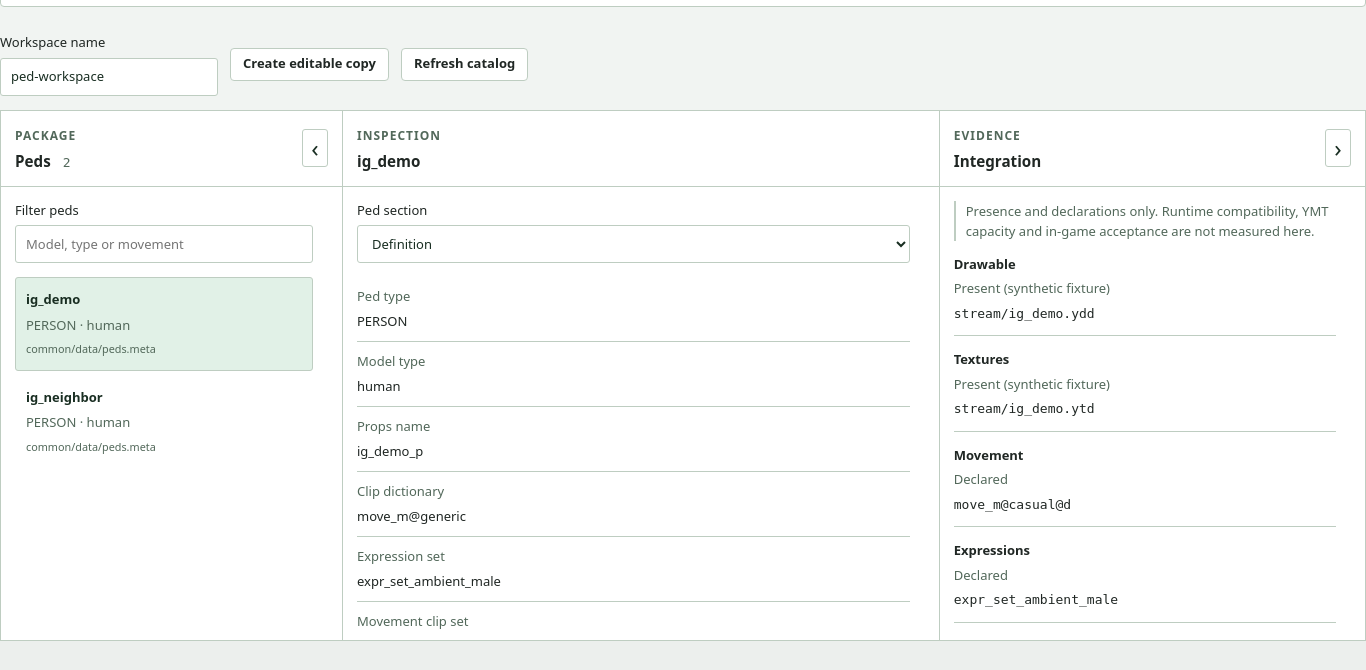
requires an explicit preview edition, reads exact model and texture sequentially, and reports missing images honestly
Expected: the heading "ig_demo" is shown, x1=357 y1=151 x2=420 y2=171
Select "Preview" in the dropdown labelled "Ped section" at (633, 244), box x1=357 y1=225 x2=910 y2=263
(page scrolled)
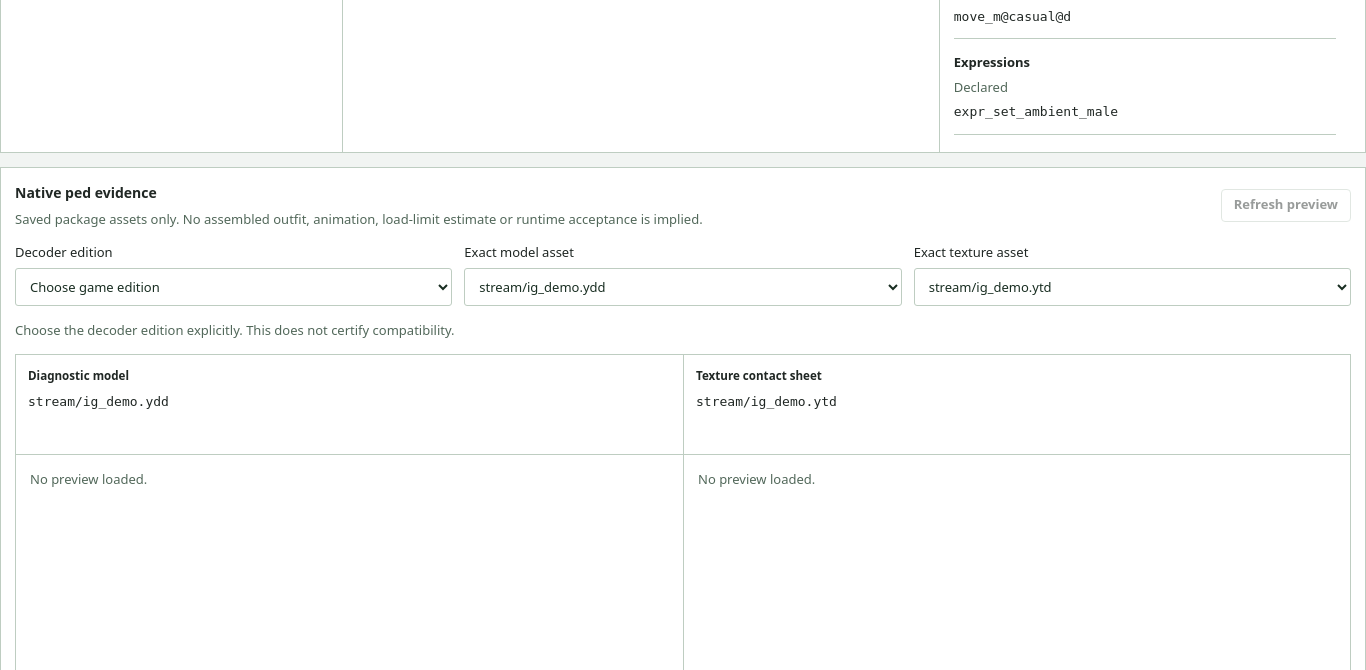
Select "Enhanced" in the dropdown labelled "Decoder edition" at (234, 287), box x1=15 y1=268 x2=452 y2=306
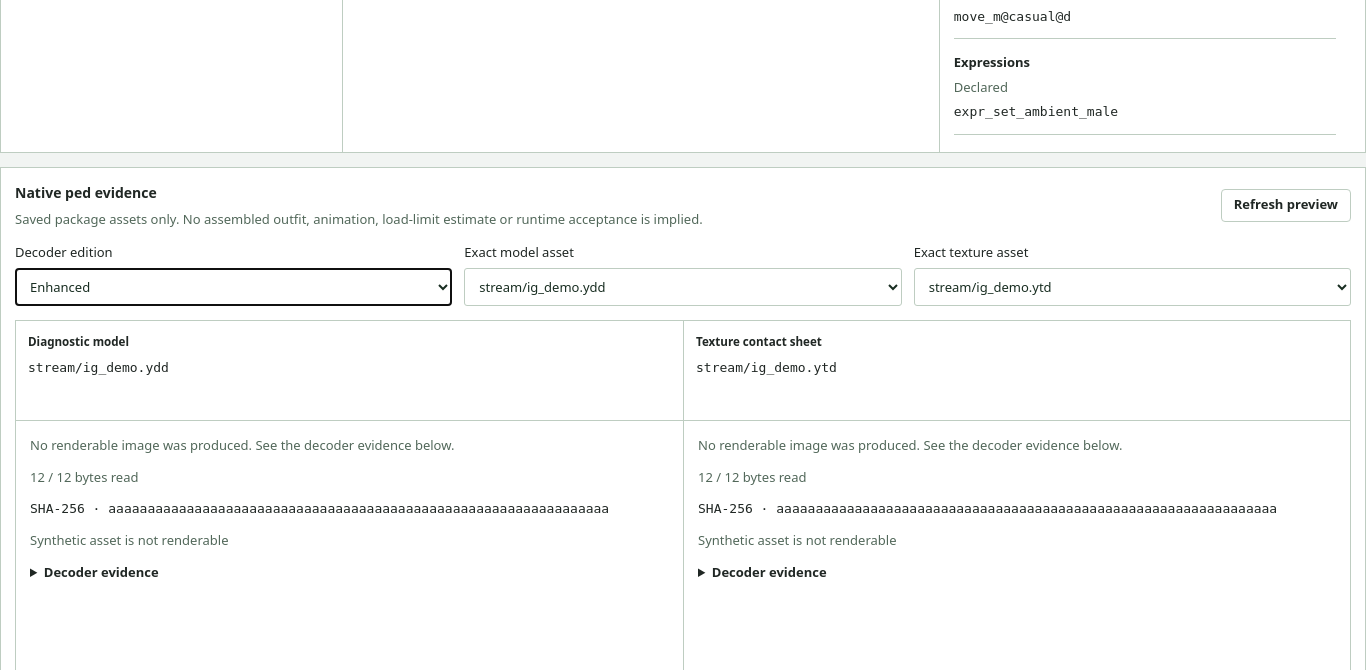
Expected: the text "No renderable image was produced. See the decoder evidence below." is shown 2 times, x1=30 y1=436 x2=454 y2=454; x1=698 y1=436 x2=1122 y2=454
